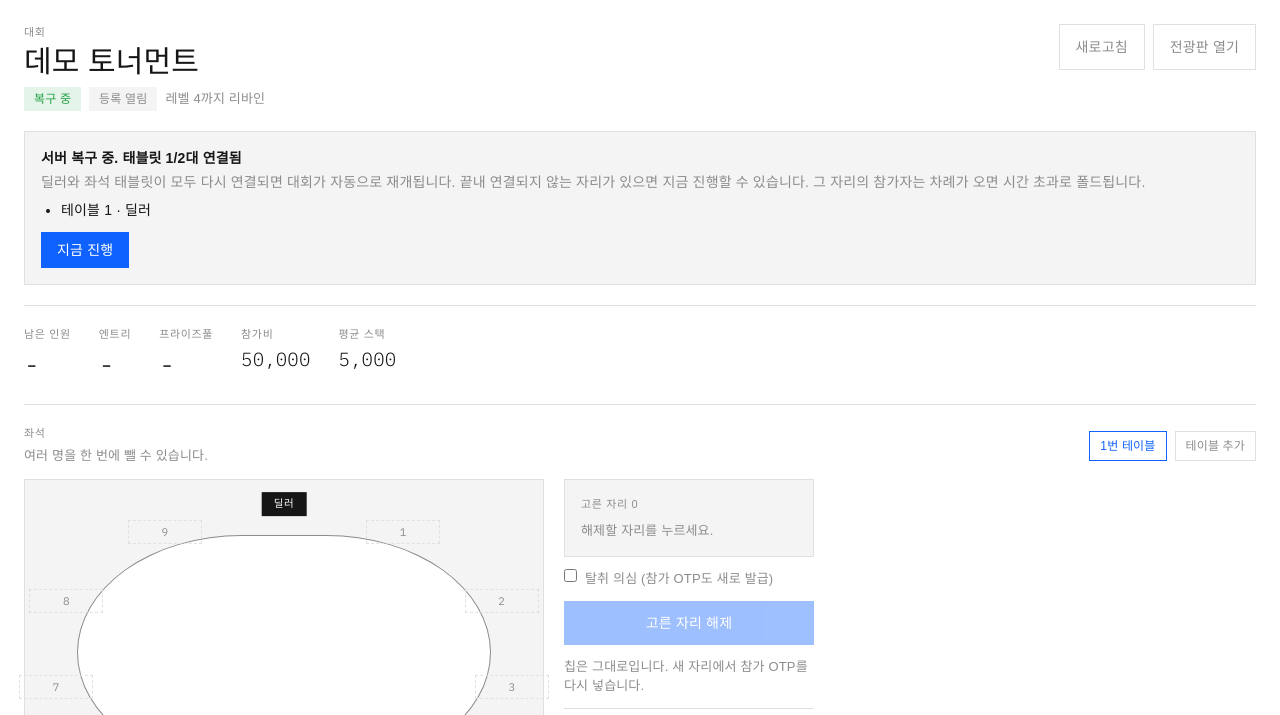
Scenario: 복구 강제 해제 실패(T117) › 실패해도 안내를 띄우고 화면을 다시 읽는다
Click the button "지금 진행".
click(85, 250)  # box [41,232,129,268]
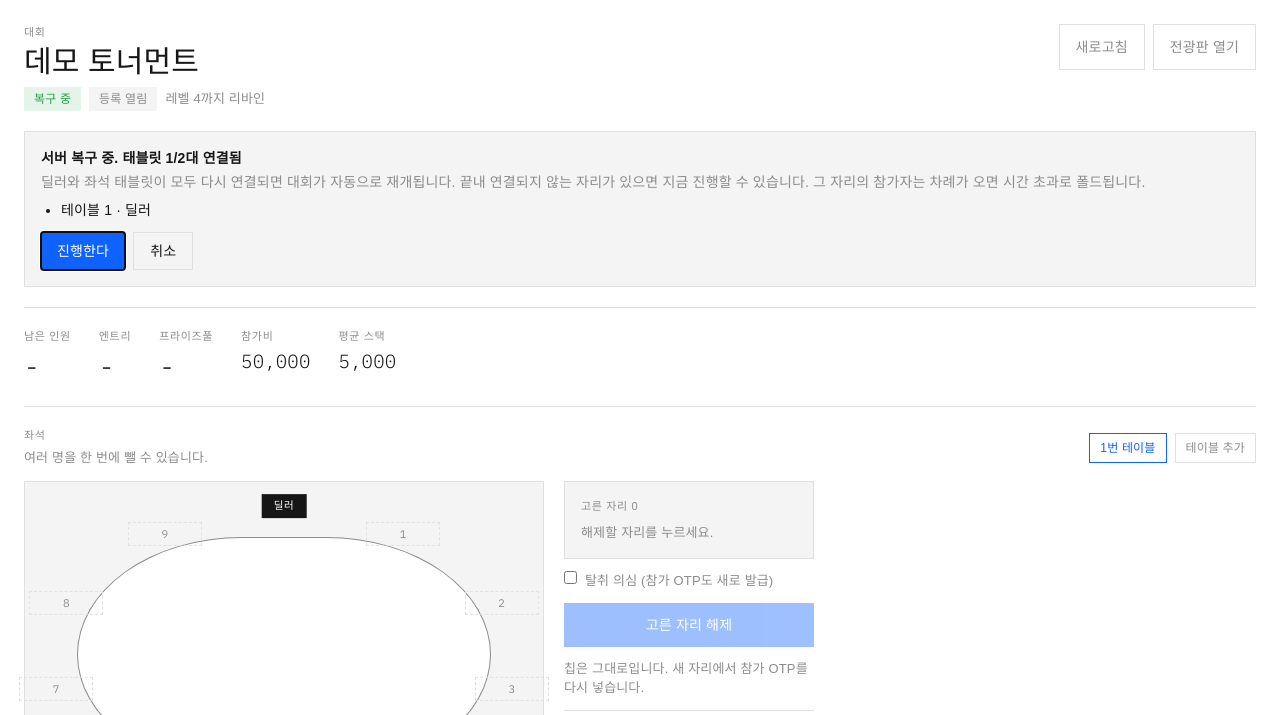
Click the button "진행한다".
click(83, 251)  # box [41,232,125,270]
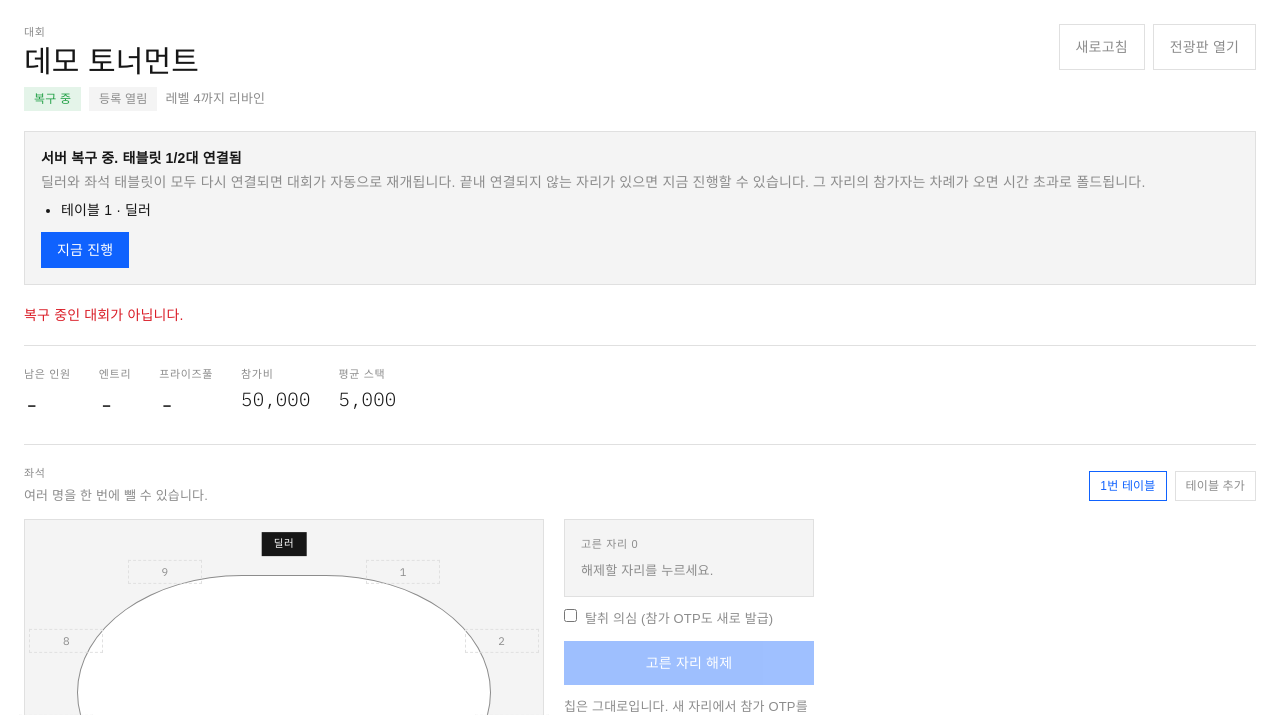
Expected: the text "복구 중인 대회가 아닙니다." is shown, [24,307,184,323]
